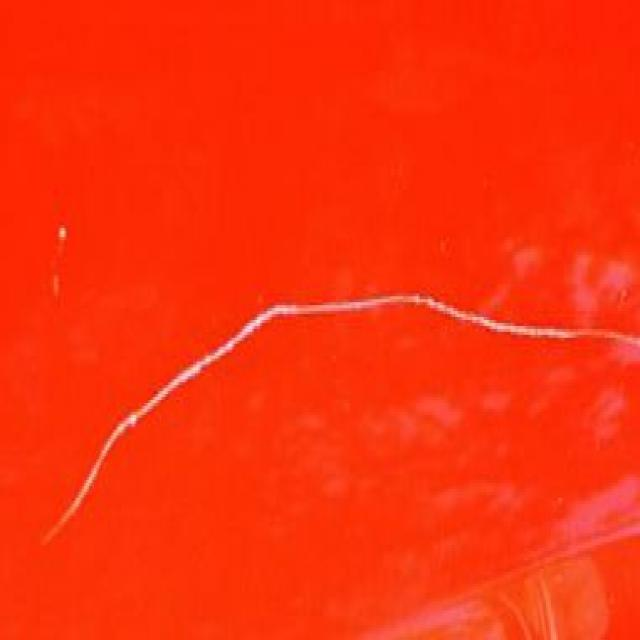scratch: (23, 281, 640, 551)
